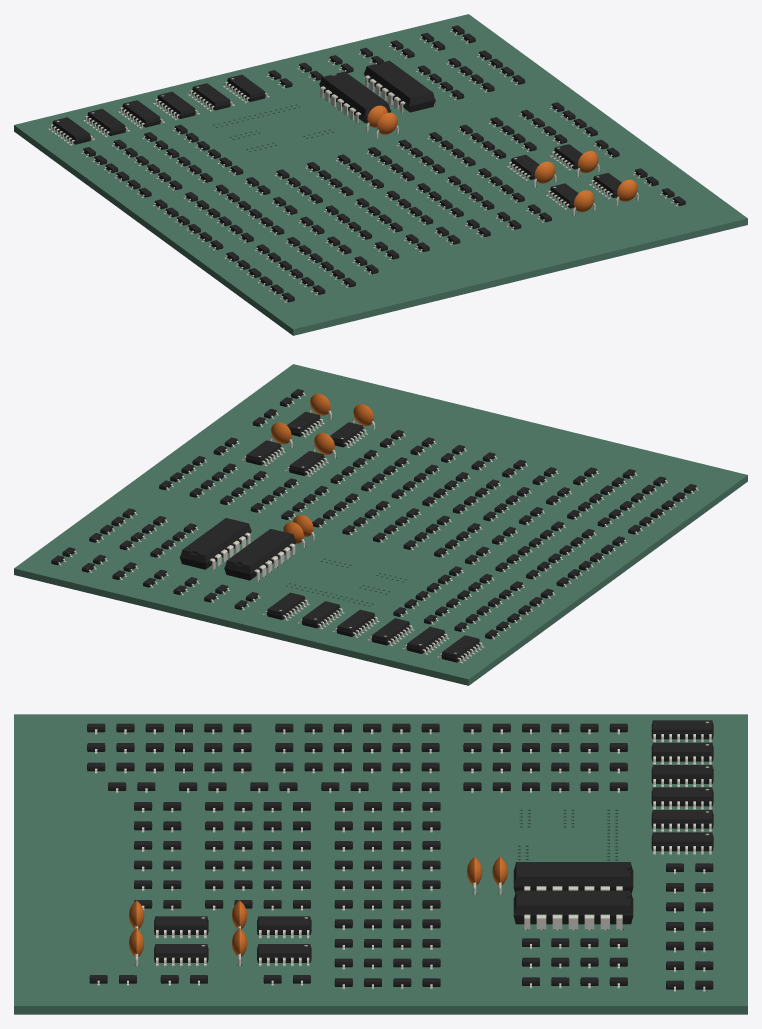
Rendered from add_sub copy.glb.
3 renders of one model, top to bottom at view 1: azimuth 30°, elevation 25°; view 2: azimuth 150°, elevation 25°; view 3: azimuth 270°, elevation 25°, orthographic. The views are drawn at different scales.
Visible parts, largest first — view 1: =>[0:1:1:7], U702, U701, U806, U805, U803, U801, U804, U802, U3301; view 2: =>[0:1:1:7], U701, U702, U801, U802, U803, U805, U806, U804, U1101, U2201, U3301 (+1 smaller); view 3: =>[0:1:1:7], U702, U701, U801, U806, U804, U802, U803, U805, U1101, U201, U3301 (+1 smaller).
Part boxes in pixels (x1=…): =>[0:1:1:7]: x1=14, y1=14, x2=747, y2=335; U702: x1=364, y1=60, x2=435, y2=113; U701: x1=319, y1=71, x2=391, y2=124; U806: x1=222, y1=74, x2=269, y2=103; U805: x1=188, y1=83, x2=234, y2=111; U803: x1=118, y1=100, x2=164, y2=128; U801: x1=48, y1=117, x2=94, y2=145; U804: x1=153, y1=91, x2=199, y2=120; U802: x1=83, y1=108, x2=129, y2=137; U3301: x1=546, y1=183, x2=578, y2=209; =>[0:1:1:7]: x1=14, y1=364, x2=747, y2=685; U701: x1=224, y1=528, x2=295, y2=581; U702: x1=179, y1=518, x2=251, y2=570; U801: x1=437, y1=635, x2=484, y2=663; U802: x1=402, y1=626, x2=449, y2=655; U803: x1=367, y1=618, x2=414, y2=646; U805: x1=297, y1=601, x2=344, y2=629; U806: x1=262, y1=592, x2=309, y2=621; U804: x1=332, y1=609, x2=379, y2=638; U1101: x1=285, y1=451, x2=328, y2=477; U2201: x1=241, y1=440, x2=285, y2=466; U3301: x1=330, y1=422, x2=367, y2=448; =>[0:1:1:7]: x1=14, y1=714, x2=747, y2=1014; U702: x1=513, y1=890, x2=633, y2=930; U701: x1=513, y1=862, x2=633, y2=893; U801: x1=651, y1=720, x2=713, y2=742; U806: x1=651, y1=832, x2=713, y2=854; U804: x1=651, y1=787, x2=713, y2=809; U802: x1=651, y1=742, x2=713, y2=764; U803: x1=651, y1=765, x2=713, y2=787; U805: x1=651, y1=810, x2=713, y2=832; U1101: x1=257, y1=916, x2=311, y2=938; U201: x1=154, y1=944, x2=208, y2=966; U3301: x1=154, y1=916, x2=208, y2=938.
Size of the model in its own units: 0.11 by 0.00839 by 0.117.
